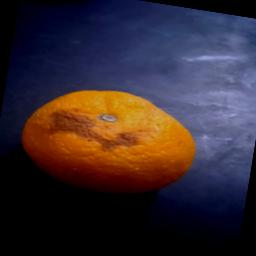Orange Unripe: (11, 66, 211, 212)
